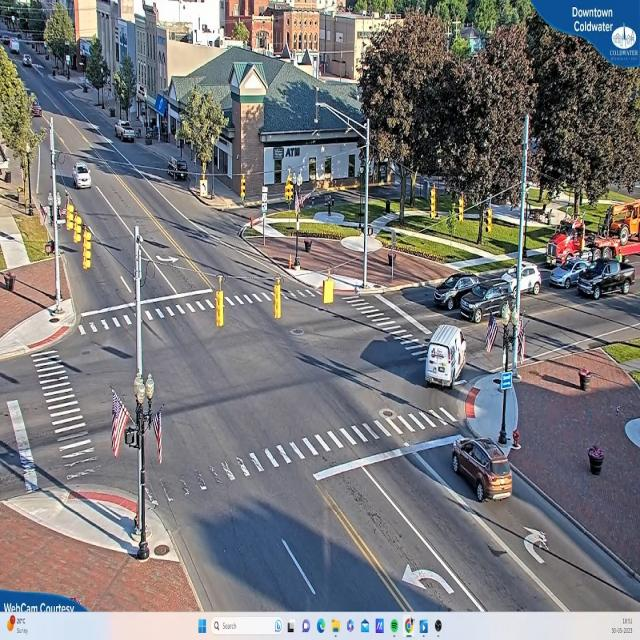car: (454, 436, 515, 502), (423, 324, 465, 396), (460, 278, 516, 321), (576, 261, 635, 300), (433, 275, 486, 308), (501, 264, 542, 296), (74, 164, 94, 187), (116, 124, 136, 143)
